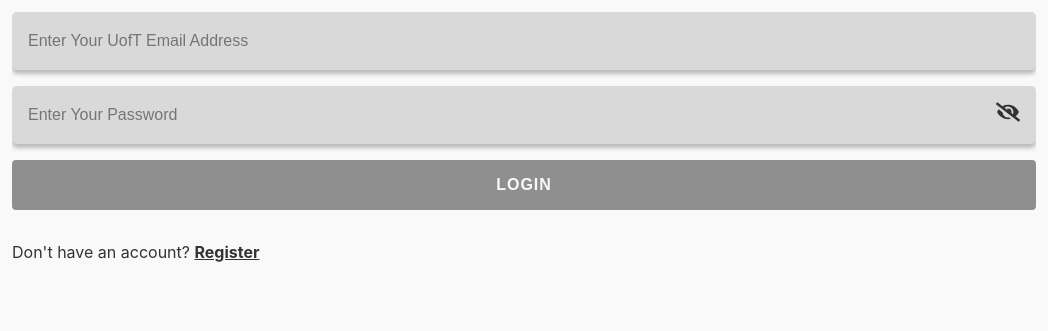
LoginForm › shows general error on network failure
Type "test@mail.utoronto.ca" into the field with placeholder "Enter Your UofT Email Address" at (524, 41), box [12,12,1036,70]
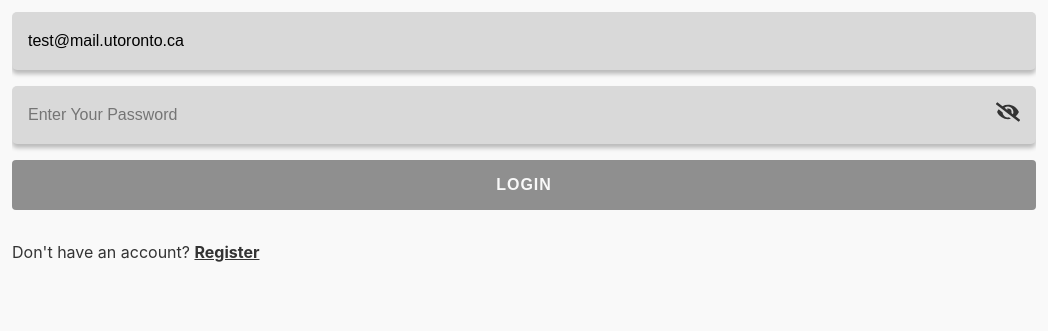
Type "validpassword123" into the password field with placeholder "Enter Your Password" at (524, 115), box [12,86,1036,144]
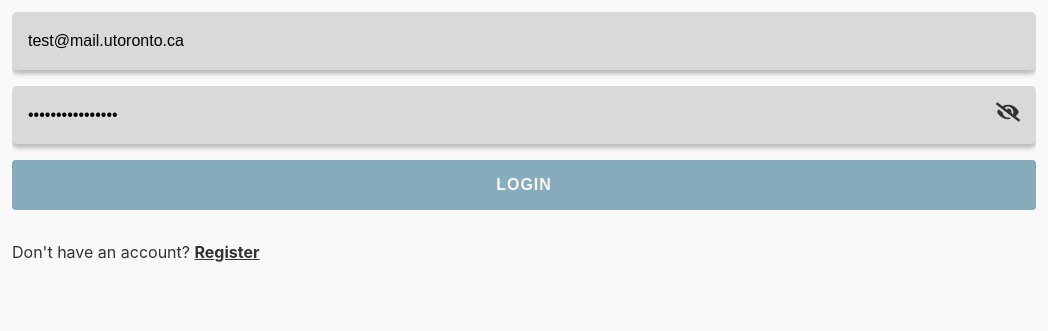
Click the button "Login" at (524, 185), box [12,160,1036,210]
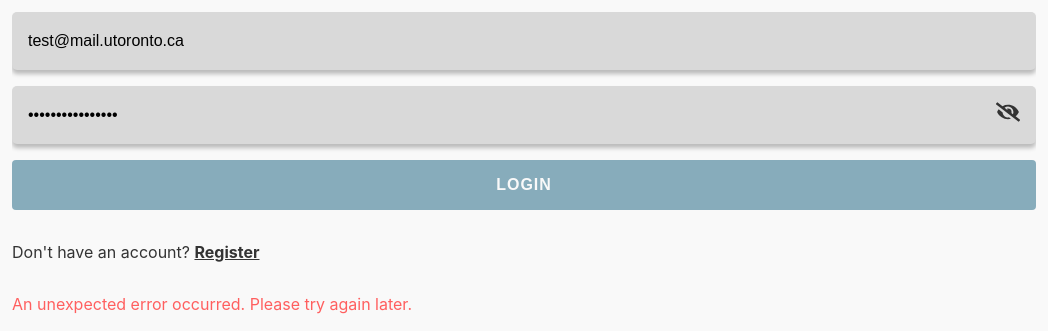
Expected: the text "An unexpected error occurred. Please try again later." is shown, [12,294,412,314]
